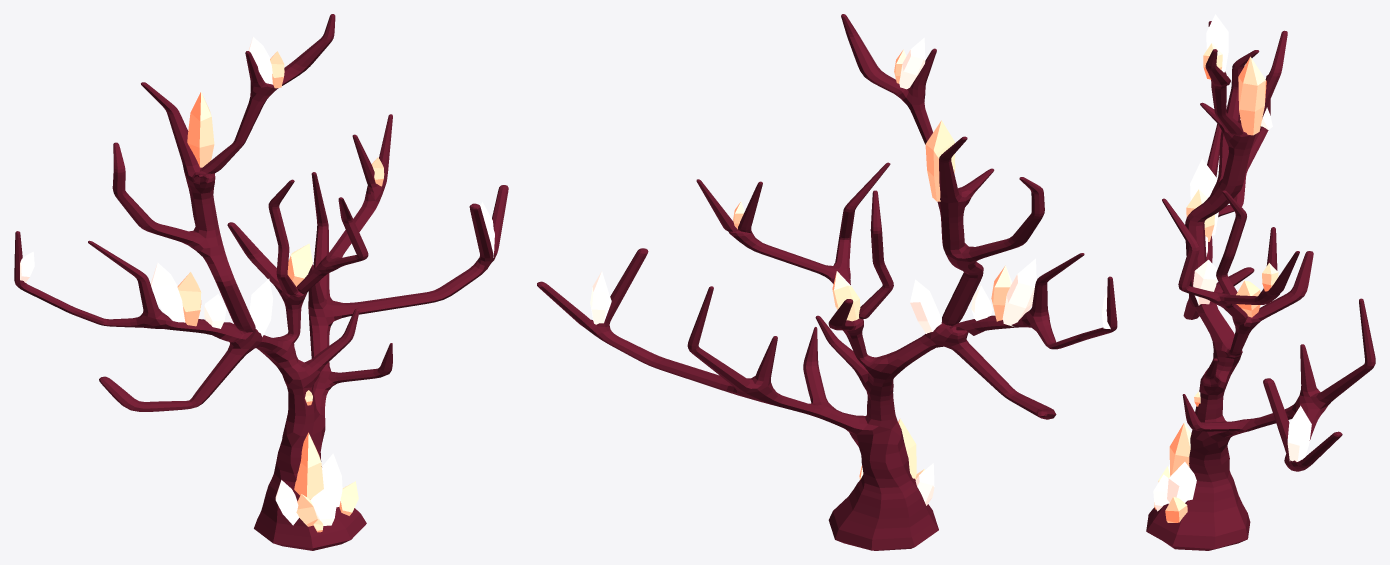
The model's file is arvoremortacristais.fbx.
3 renders of one model, left to right at view 1: azimuth 30°, elevation 25°; view 2: azimuth 150°, elevation 25°; view 3: azimuth 270°, elevation 25°, orthographic. The views are drawn at different scales.
Parts seen in each view (by area): view 1: Cone.020; view 2: Cone.020; view 3: Cone.020.
Boxes of the visible parts, box(x1,y1,x2,y2) form: Cone.020: box(14, 14, 508, 550); Cone.020: box(537, 14, 1117, 550); Cone.020: box(1146, 14, 1375, 550).
Bounding box in the file's own units: 1728 × 1583 × 656.
